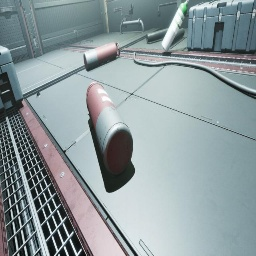0: (162, 0, 189, 52)
NitrogenTank ,: (86, 82, 133, 176), (84, 42, 120, 70)
